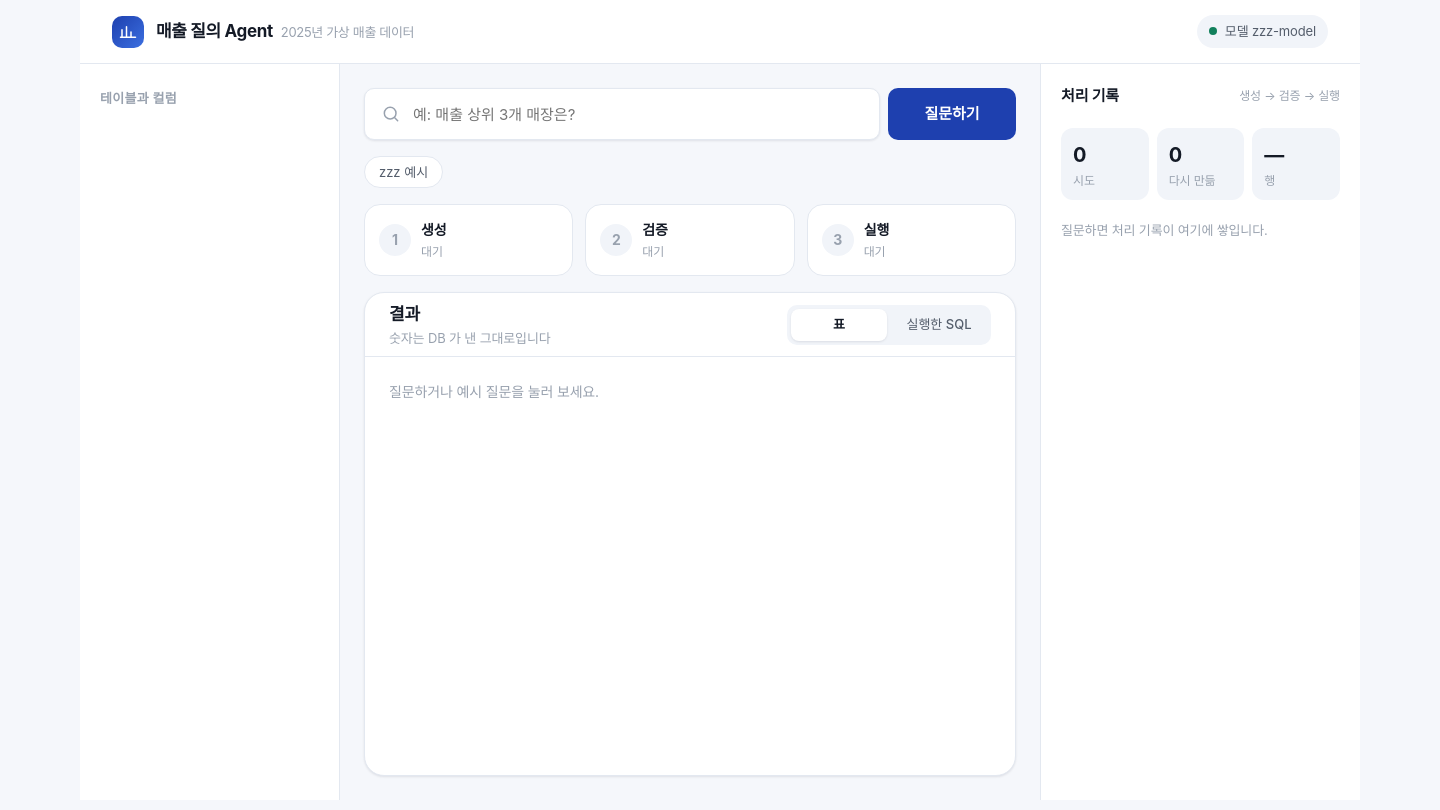
Scenario: Query › 묻기 전 · 완료 · 실패에서 칸이 늘 같은 자리에 있다 (SCR-R001)
Expected: the element "테이블과 컬럼" is shown, [80,64,340,800]
Expected: the element "결과" is shown, [364,292,1016,776]
Click the button "zzz 예시" at (404, 172), box [364,156,443,188]
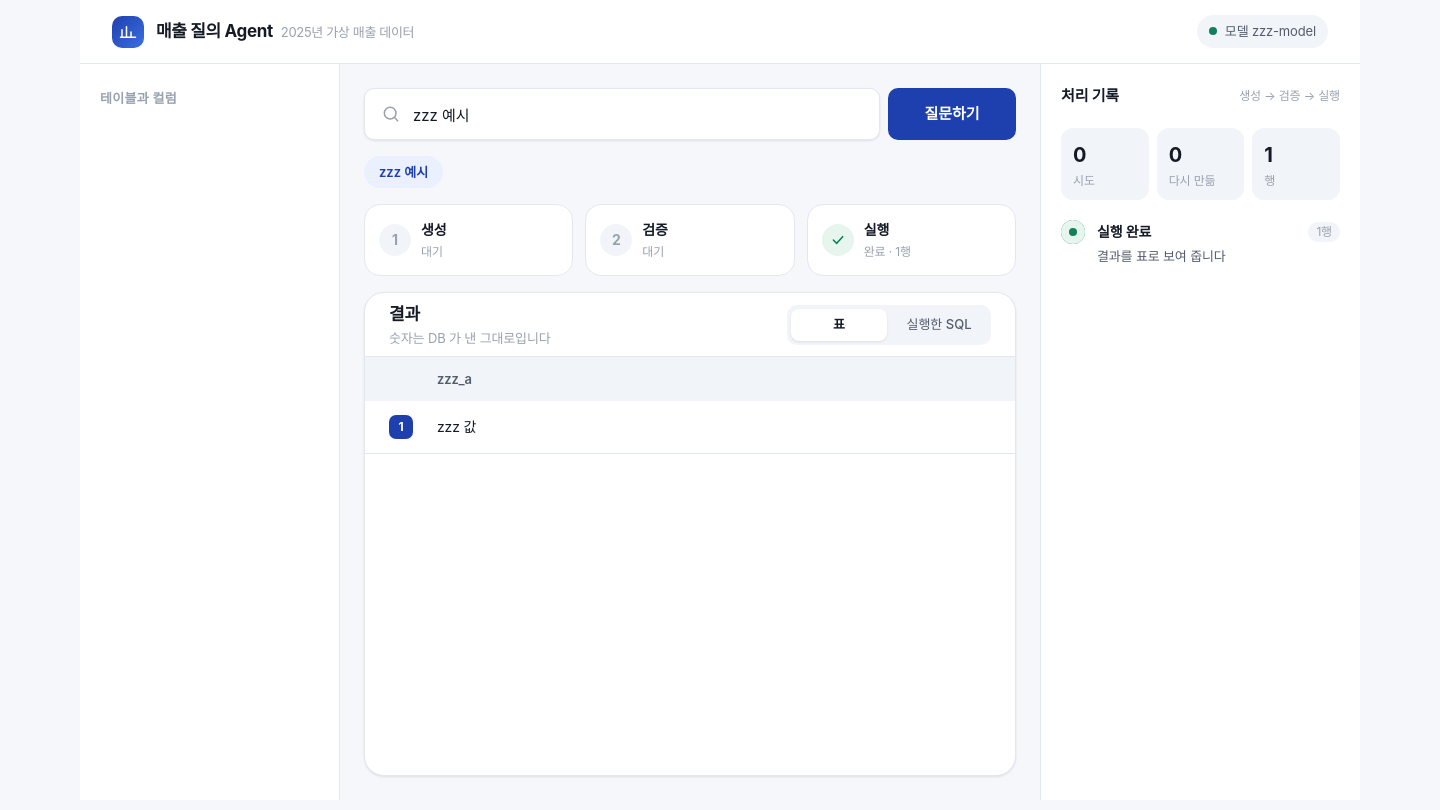
Expected: the element "테이블과 컬럼" is shown, [80,64,340,800]
Now the cell "zzz 값" is shown, box [413,401,1015,453]
Click the button "zzz 예시" at (404, 172), box [364,156,443,188]
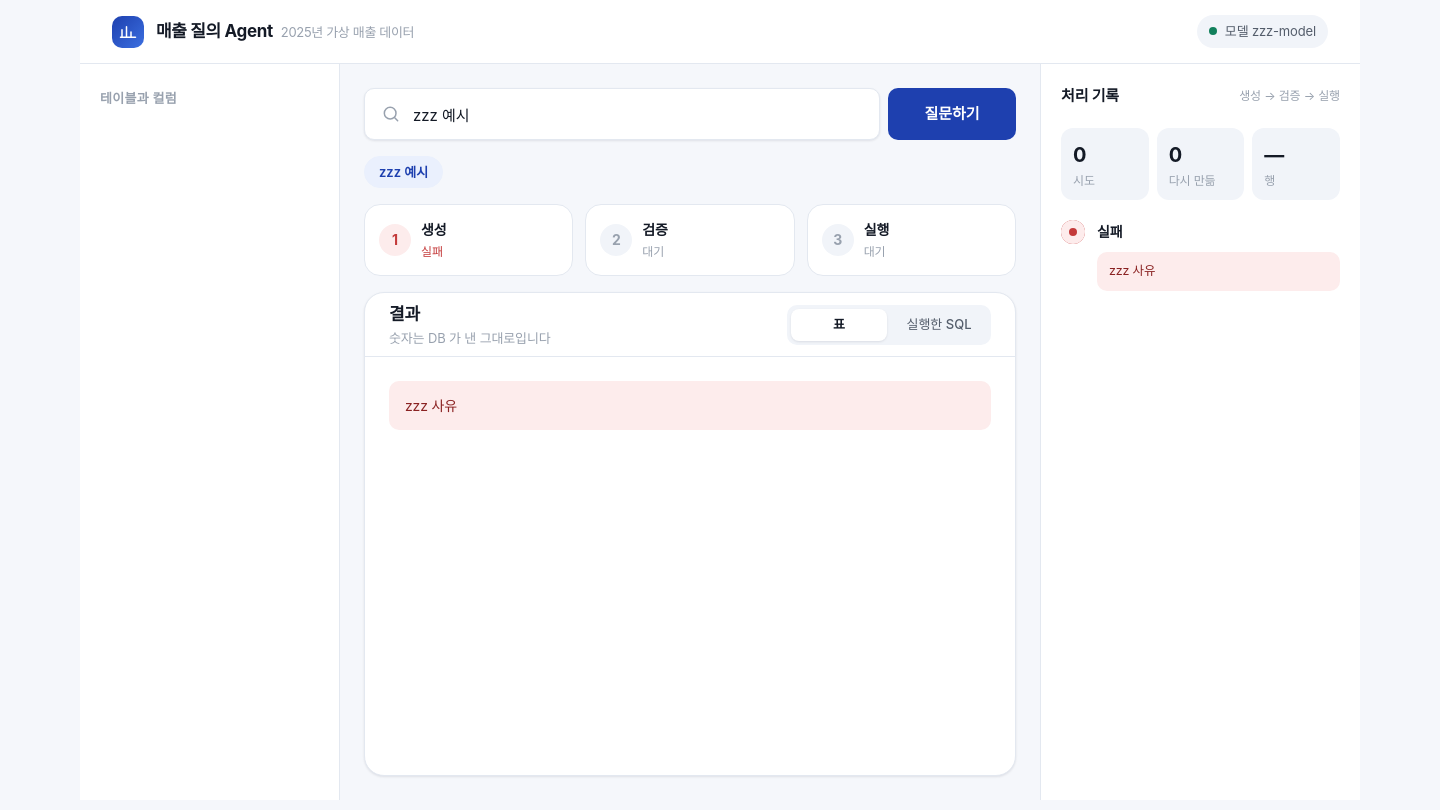
Expected: the element "테이블과 컬럼" is shown, [80,64,340,800]
Now the message "zzz 사유" is shown, box [389,381,991,430]
